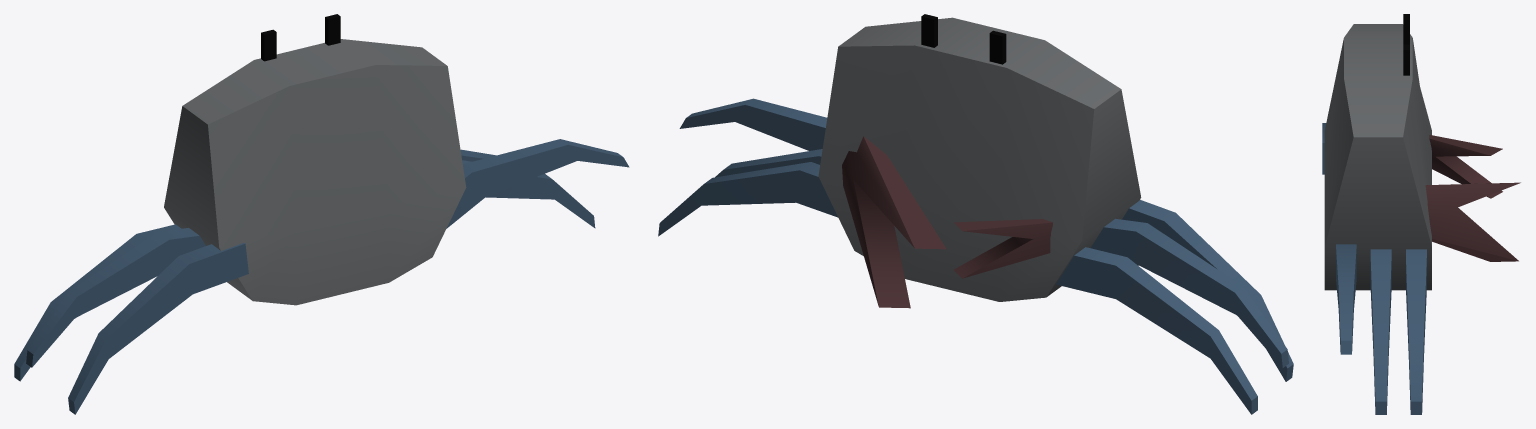
File: Crab.fbx
The picture shows the model from 3 angles, left to right: view 1: azimuth 30°, elevation 25°; view 2: azimuth 150°, elevation 25°; view 3: azimuth 270°, elevation 25°; orthographic projection. The views are drawn at different scales.
Parts seen in each view (by area): view 1: Crab; view 2: Crab; view 3: Crab.
Boxes of the visible parts, x1,y1,x2,y2 form: Crab: [14, 14, 629, 414]; Crab: [658, 14, 1293, 414]; Crab: [1322, 14, 1520, 414].
Size of the model in its own units: 0.2284 by 0.1108 by 0.0701.
